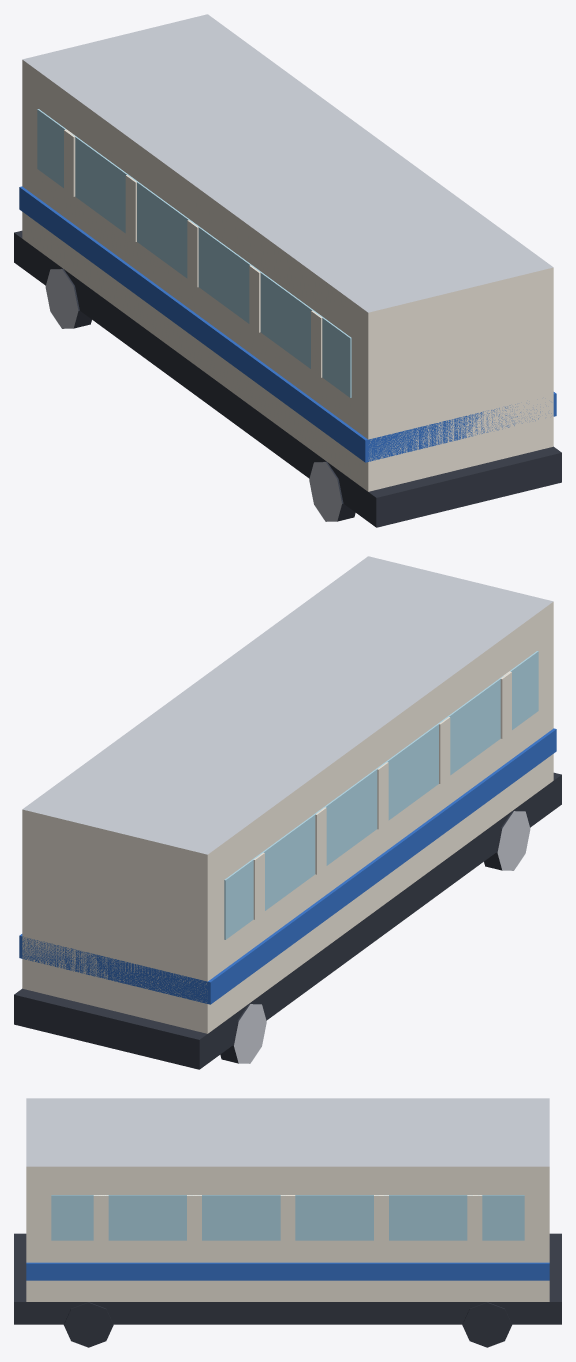
The model's file is vehicle_train_carriage.glb.
3 renders of one model, top to bottom at view 1: azimuth 30°, elevation 25°; view 2: azimuth 150°, elevation 25°; view 3: azimuth 270°, elevation 25°, orthographic. The views are drawn at different scales.
Parts seen in each view (by area): view 1: vehicle_train_carriage; view 2: vehicle_train_carriage; view 3: vehicle_train_carriage.
Boxes of the visible parts, box(x1,y1,x2,y2) form: vehicle_train_carriage: box(14, 14, 561, 527); vehicle_train_carriage: box(14, 556, 561, 1069); vehicle_train_carriage: box(14, 1098, 561, 1347).
Size of the model in its own units: 0.134 by 0.16 by 0.44.
